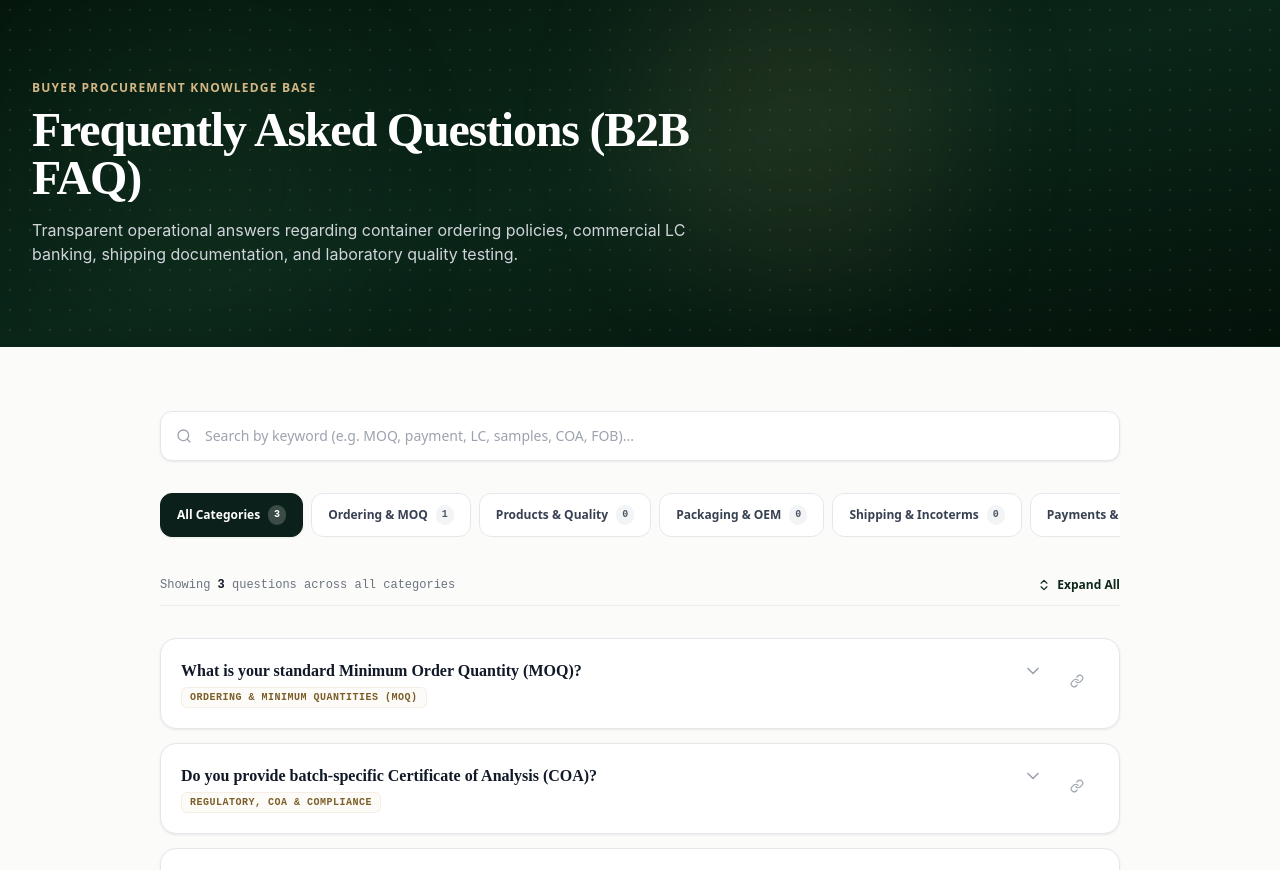
it: UI Component: FaqPage Suite › toggles Expand All and Collapse All
The width and height of the screenshot is (1280, 870).
What coordinates should you click on to do the following:
click the button with aria-label "Expand all visible questions"
I would click on:
 (1079, 585)
Its box is [1037, 577, 1120, 593].
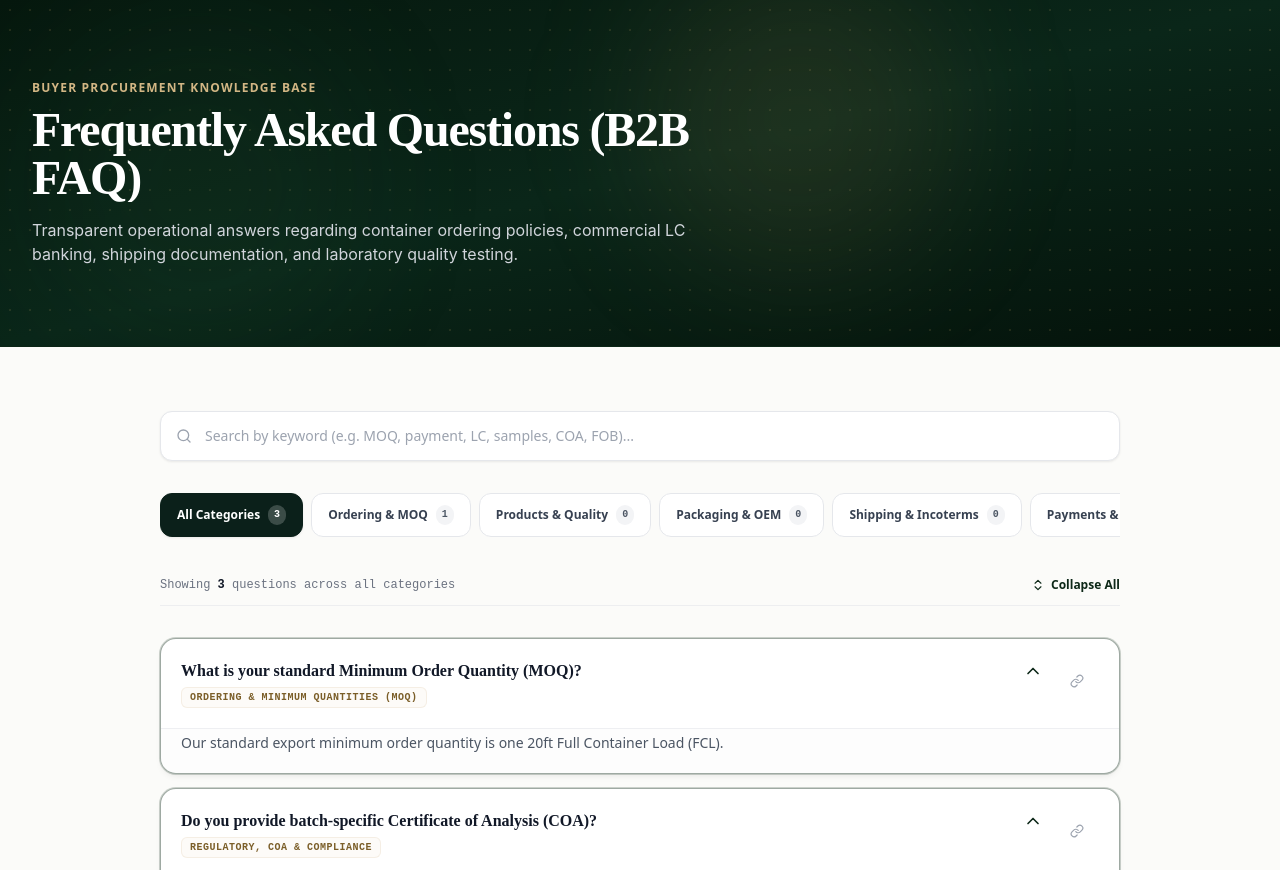
Expected: the button "What is your standard Minimum Order Quantity" is expanded, [181, 659, 1043, 708]
Expected: the button "Do you provide batch-specific Certificate of Analysis" is expanded, [181, 809, 1043, 858]
Button should now read Collapse All
What coordinates should you click on to do the following:
click the button with aria-label "Collapse all visible questions"
I would click on:
 (1076, 585)
Its box is [1031, 577, 1120, 593].
(page scrolled)
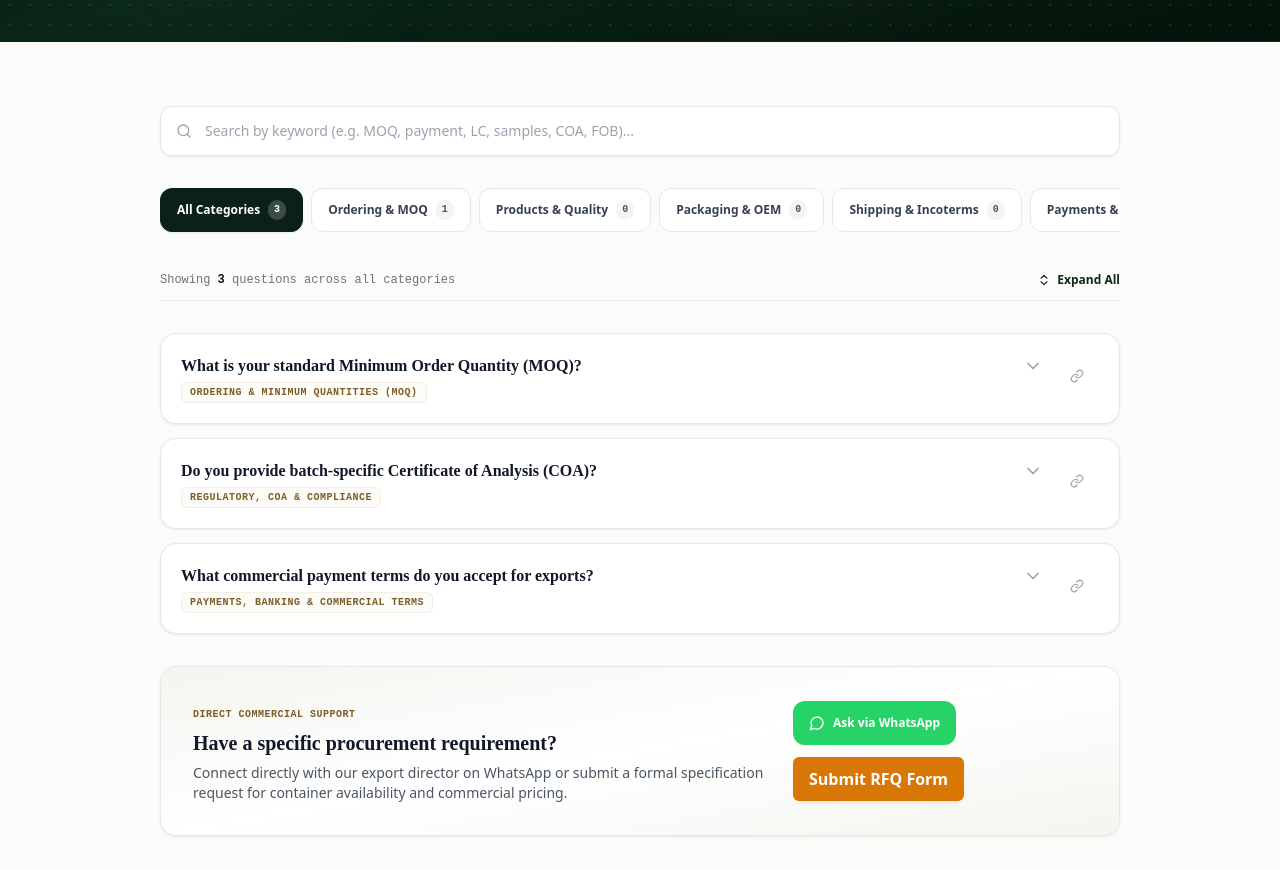
Expected: the button "What is your standard Minimum Order Quantity" is collapsed, [181, 354, 1043, 403]
Expected: the button "Do you provide batch-specific Certificate of Analysis" is collapsed, [181, 459, 1043, 508]
Expected: the button "What commercial payment terms do you accept" is collapsed, [181, 564, 1043, 613]
